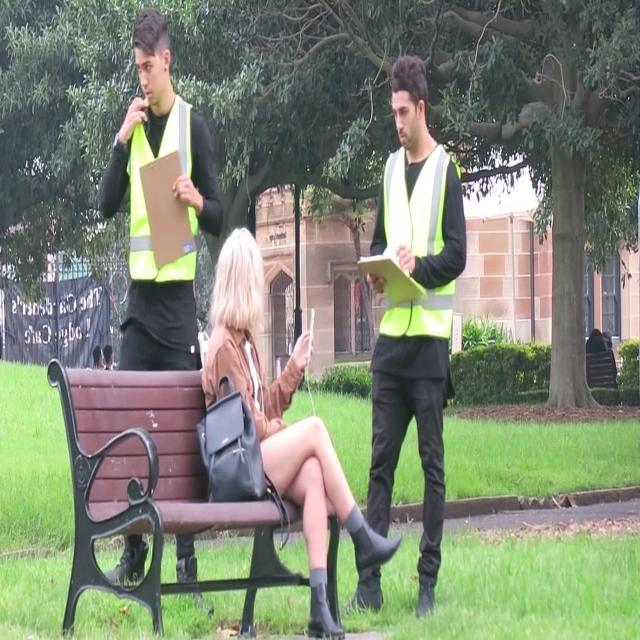Reflective-Jacket: (378, 142, 460, 342), (124, 95, 202, 289)
